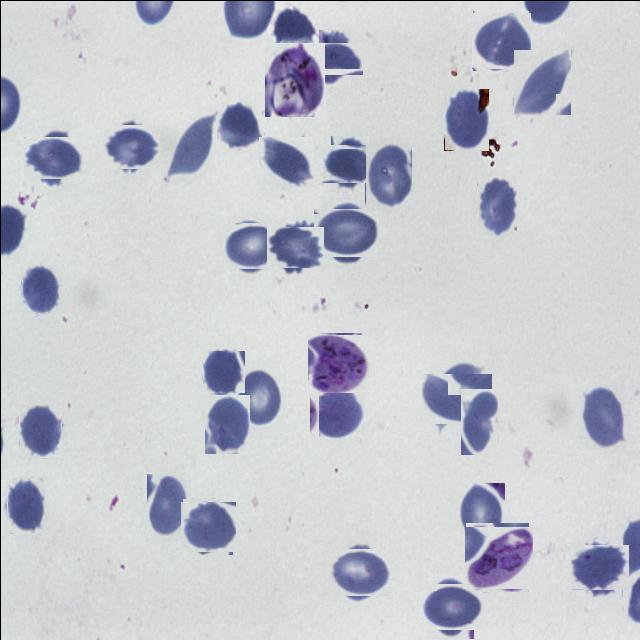difficult: (264, 42, 324, 116)
red blood cell: (512, 49, 570, 115), (426, 368, 486, 428), (471, 11, 529, 69), (364, 142, 411, 210), (317, 203, 373, 260), (422, 578, 478, 634), (580, 383, 626, 449), (168, 112, 214, 178), (331, 544, 386, 599), (460, 482, 506, 544), (180, 499, 233, 552), (259, 135, 312, 188), (310, 386, 364, 438), (443, 88, 488, 150), (203, 394, 249, 454), (146, 473, 189, 537), (223, 219, 275, 271), (104, 120, 156, 172), (573, 541, 625, 593), (237, 368, 282, 427), (27, 132, 78, 183), (270, 222, 320, 272), (476, 176, 516, 237), (460, 388, 497, 453), (18, 404, 61, 458), (215, 101, 261, 149), (326, 140, 372, 187), (6, 477, 44, 533), (20, 264, 58, 315), (312, 36, 356, 80), (202, 350, 244, 392), (272, 7, 314, 45)
trophozoite: (464, 524, 530, 590), (307, 332, 367, 392)
